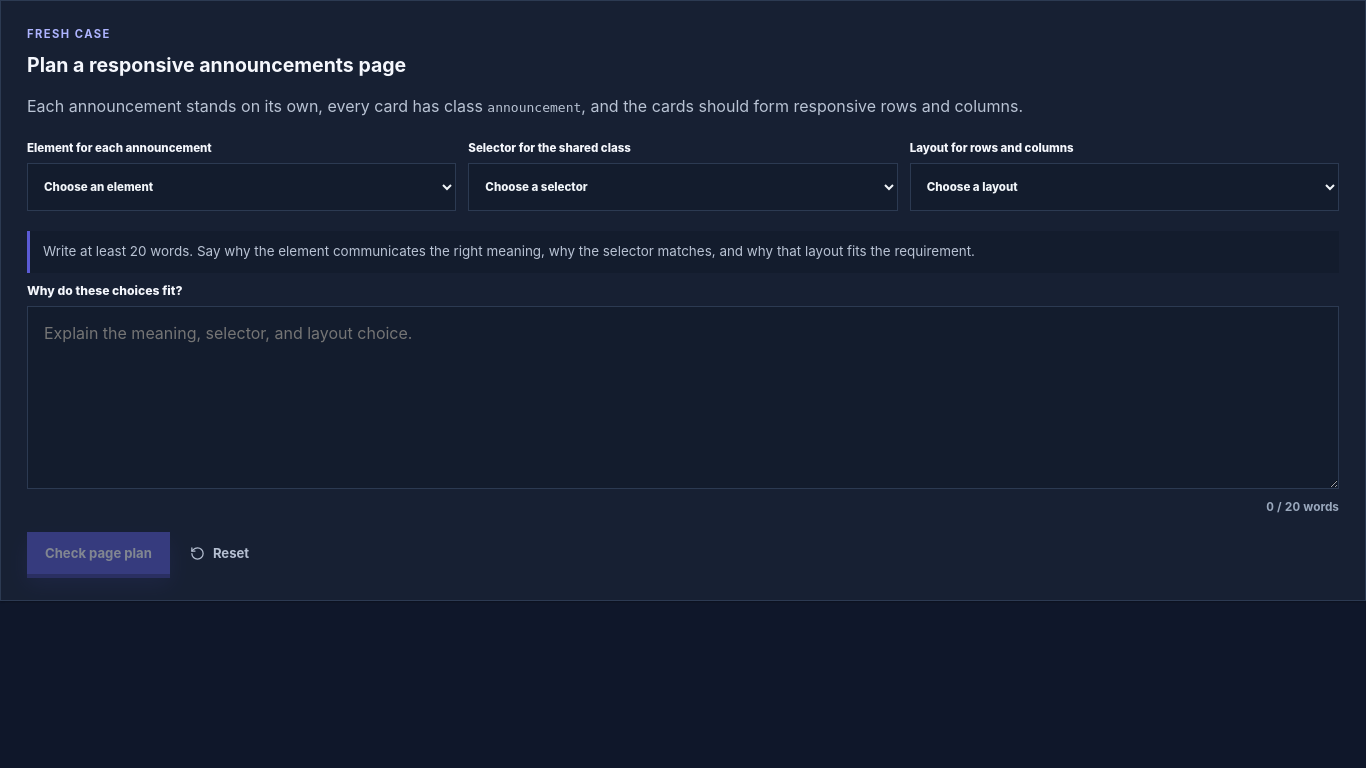
Test: Lecture 2 study interactions › the twenty-word minimum on the page plan › holds back the check until the reasoning is long enough
Select "<article>" in the dropdown labelled "Element for each announcement" at (242, 187), box x1=27 y1=163 x2=456 y2=211
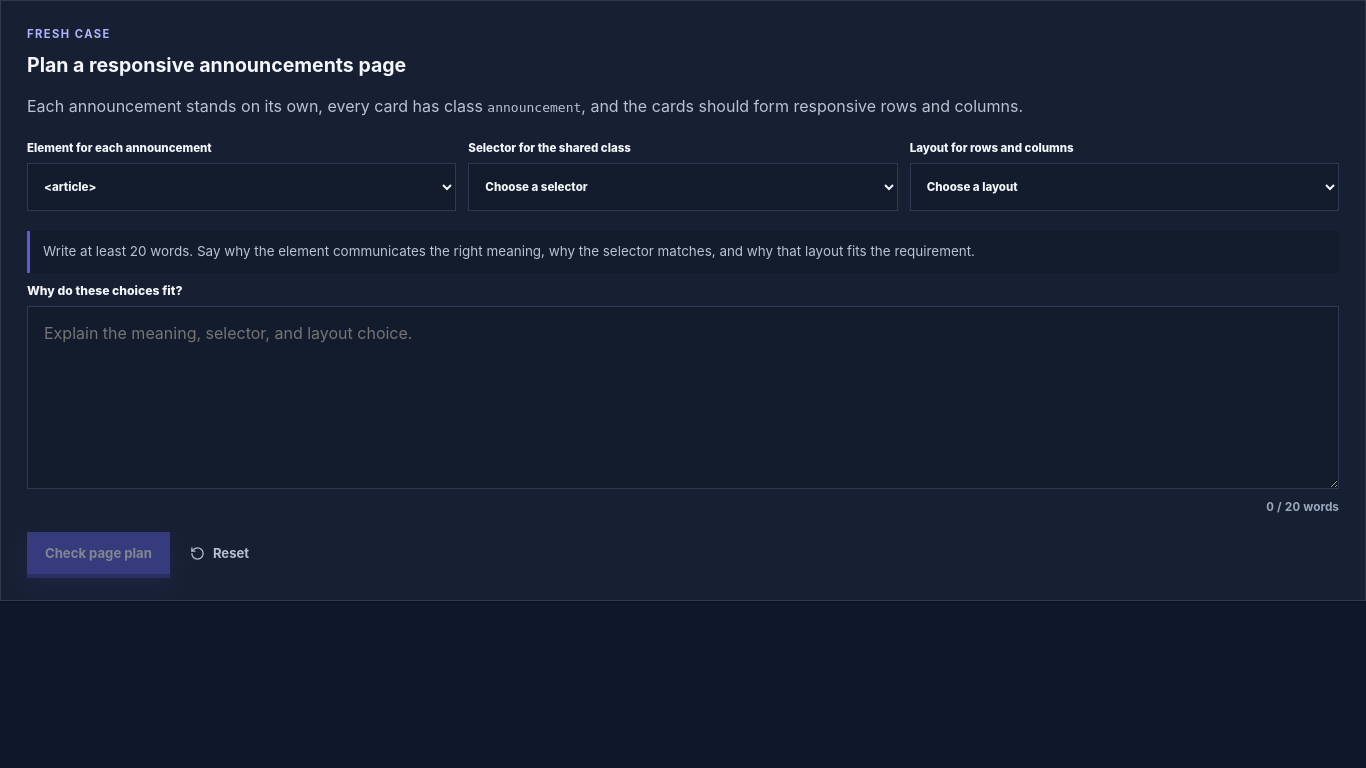
Select ".announcement" in the dropdown labelled "Selector for the shared class" at (683, 187), box x1=468 y1=163 x2=898 y2=211
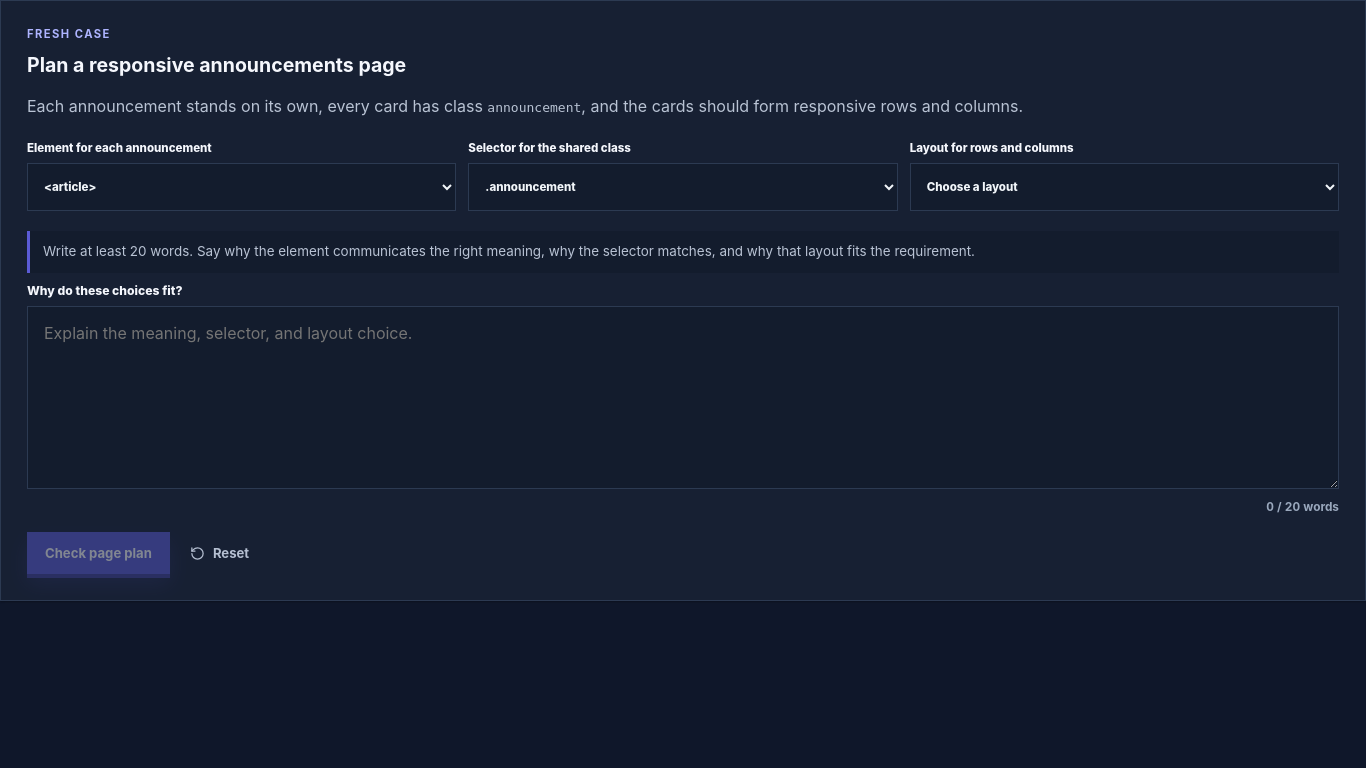
Select "Grid" in the dropdown labelled "Layout for rows and columns" at (1124, 187), box x1=910 y1=163 x2=1339 y2=211
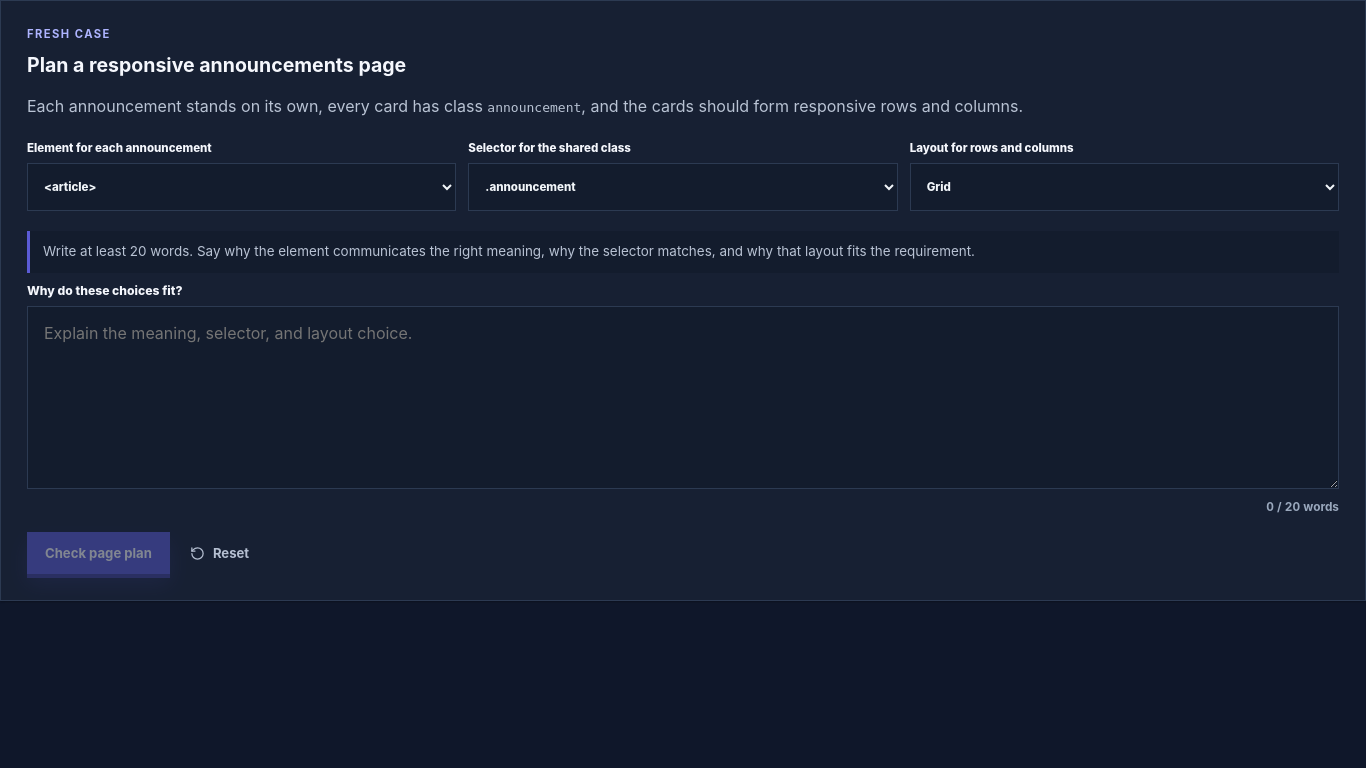
Type "Article is meaningful and grid works." into the text box labelled "Why do these choices fit?".
click(683, 398); type("Article is meaningful and grid works.")  # box x1=27 y1=306 x2=1339 y2=490
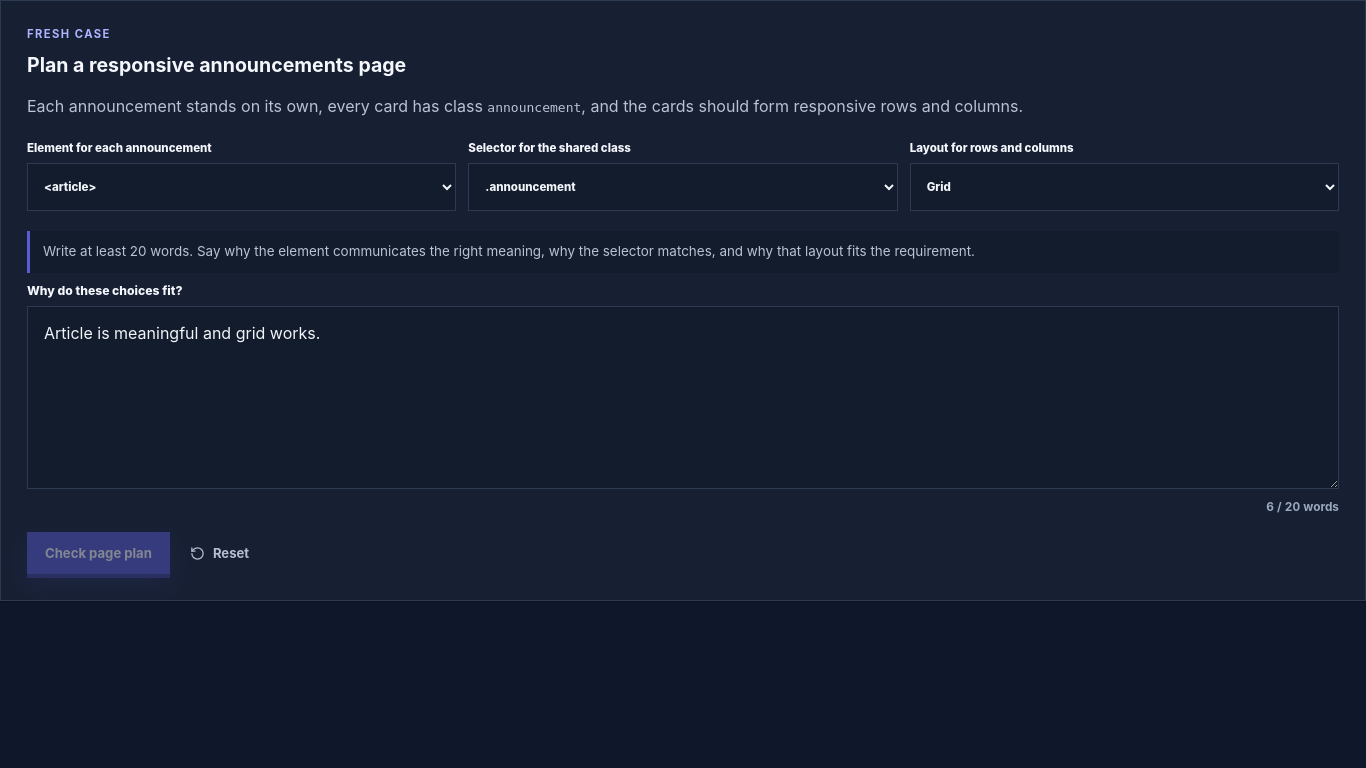
Expected: the button "Check page plan" is disabled, x1=27 y1=532 x2=170 y2=574
Result: the text with test id "written-answer-count" reads "6 / 20 words" at x1=1266 y1=500 x2=1339 y2=514
